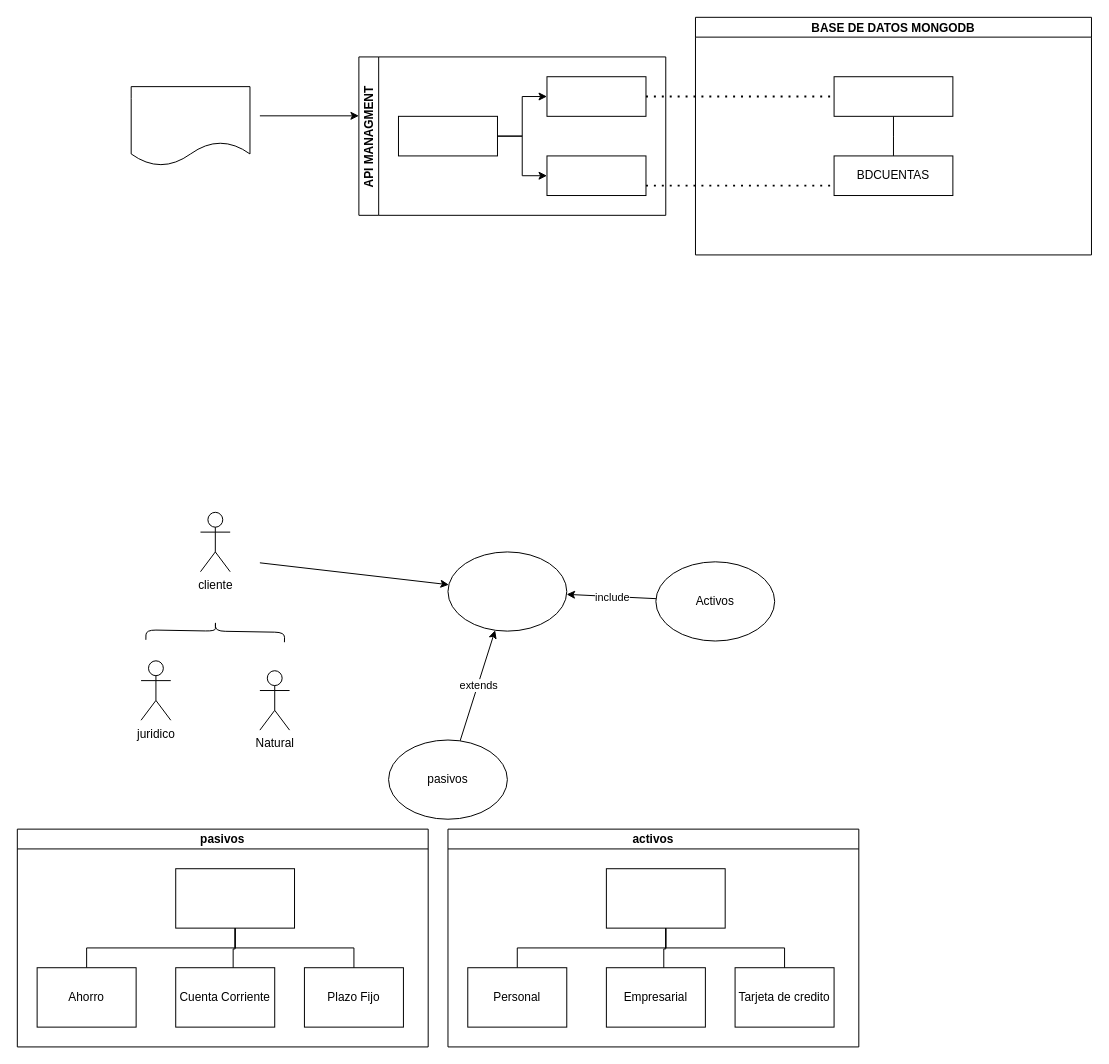
Some shapes in this 1109 by 1064 pixel diagram are drawn without their labels. The centre of each missing label's shape, as x and y in pixels:
BDCLIENTES: point (893, 96)
Creditos: point (665, 898)
Cuentas bancarias: point (235, 898)
MICROSERVICIO CLIENTE: point (596, 96)
MICROSERVICIO CUENTAS: point (596, 175)
Productos: point (507, 591)
SOLICITUD CONSULTA: point (190, 126)
SPRING CLOUD GATEWAY: point (447, 135)
